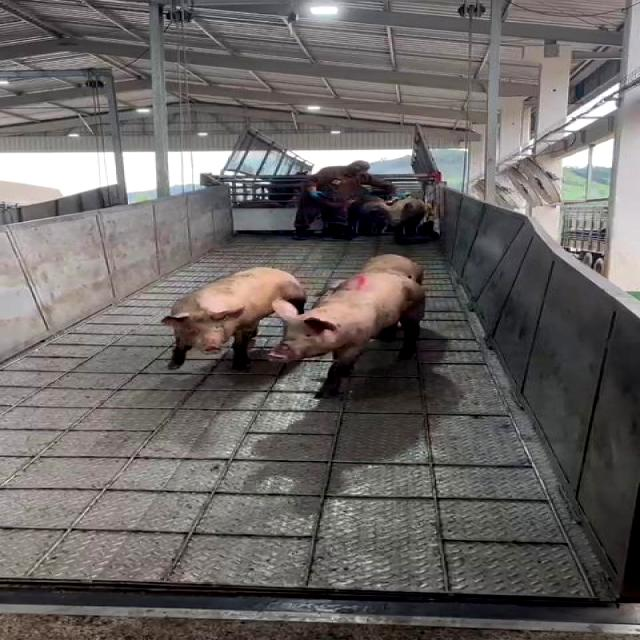pig: (271, 272, 424, 395), (163, 268, 306, 368), (362, 255, 423, 282)
